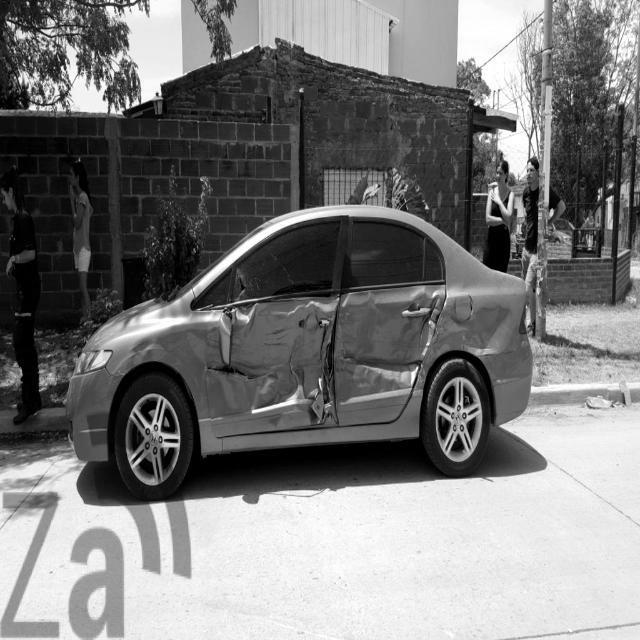doorouter-dent: (191, 294, 337, 453), (325, 291, 440, 458)
fender-dent: (118, 329, 189, 412)
quaterpanel-dent: (442, 278, 515, 381)
